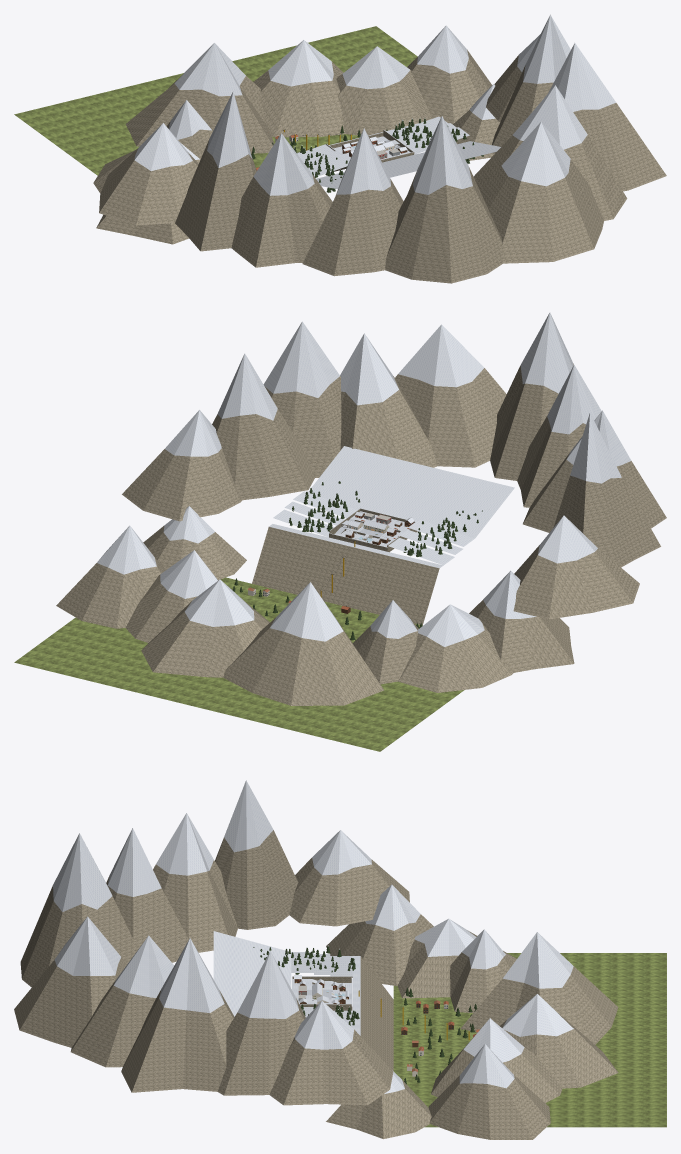
Rendered from hollis-pass-structure.glb.
3 renders of one model, top to bottom at view 1: azimuth 30°, elevation 25°; view 2: azimuth 150°, elevation 25°; view 3: azimuth 270°, elevation 25°, orthographic. The views are drawn at different scales.
Visible parts, largest first — view 1: backdrop.peaks, backdrop.ground, backdrop.trees; view 2: backdrop.peaks, backdrop.ground, backdrop.trees; view 3: backdrop.peaks, backdrop.ground, backdrop.trees.
Part boxes in pixels (x1,y1,x2,y2): backdrop.peaks: (93, 14, 666, 283); backdrop.ground: (14, 26, 500, 189); backdrop.trees: (251, 118, 483, 192); backdrop.peaks: (56, 312, 666, 705); backdrop.ground: (14, 446, 514, 751); backdrop.trees: (232, 480, 490, 640); backdrop.peaks: (14, 780, 618, 1139); backdrop.ground: (213, 931, 666, 1127); backdrop.trees: (249, 943, 476, 1084).
Size of the model in its own units: 812 by 313 by 950.
Materials: 46 (46 with a texture image).
